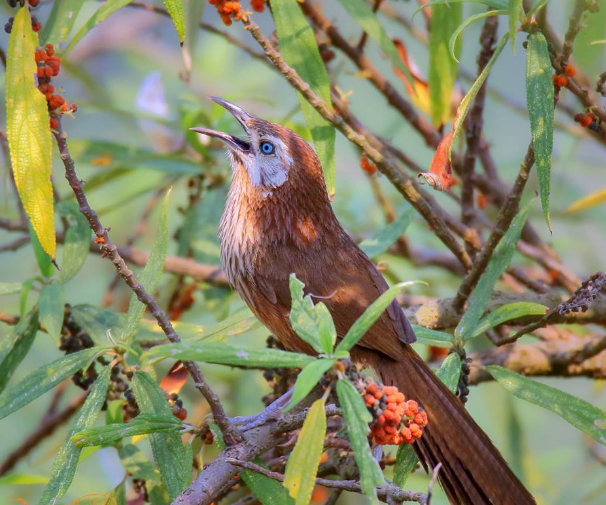bird: (192, 90, 494, 505)
